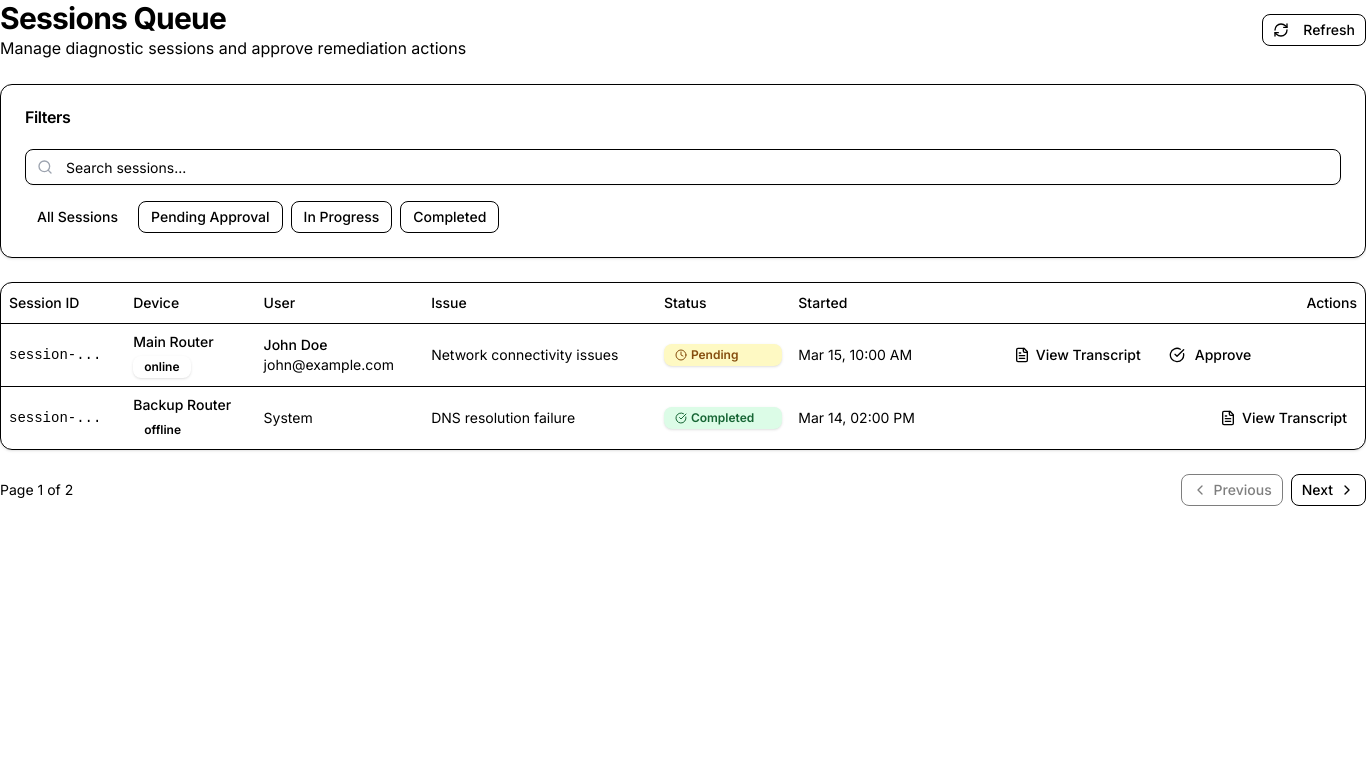
SessionsPage › shows empty state when transcript returns no entries
Click the button "View Transcript" in the row of "Main Router". click: (1077, 354)
box: [1004,338,1151,370]
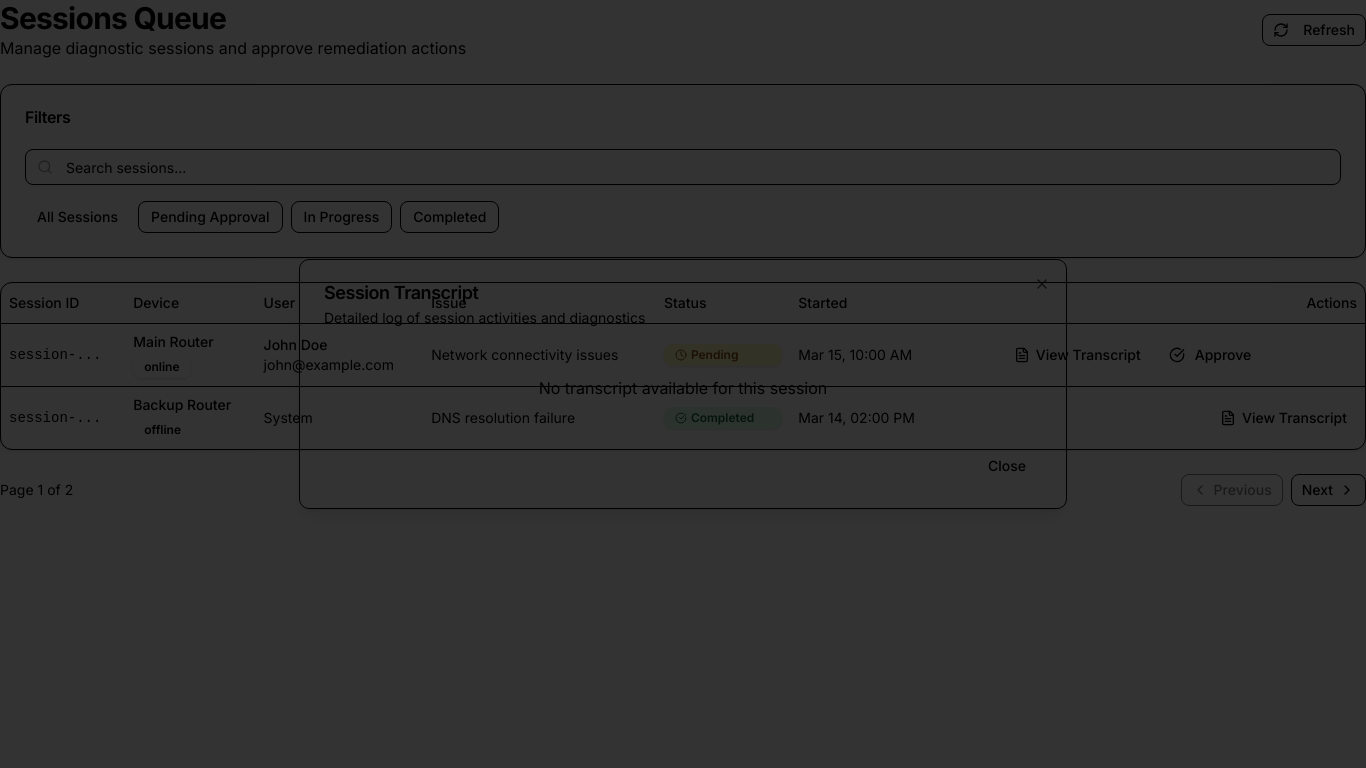
Check: the text "No transcript available for this session" is shown, box [539,378,827,398]
